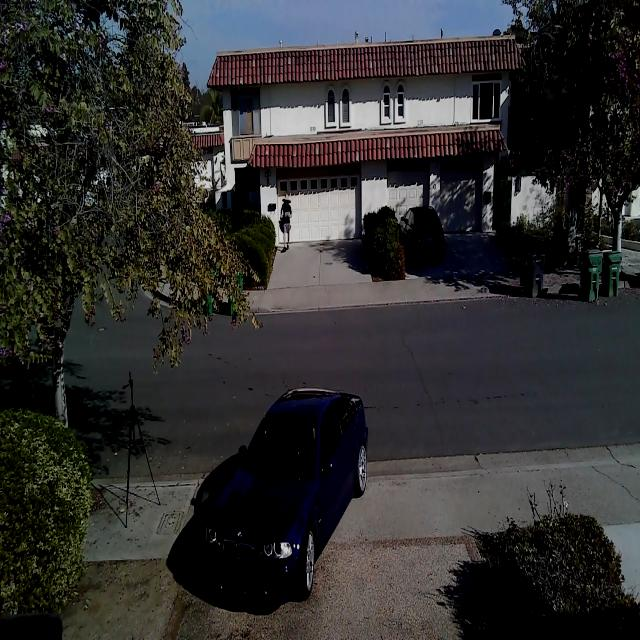Carbeetle: (196, 380, 374, 619)
Civilian: (399, 205, 445, 263)
